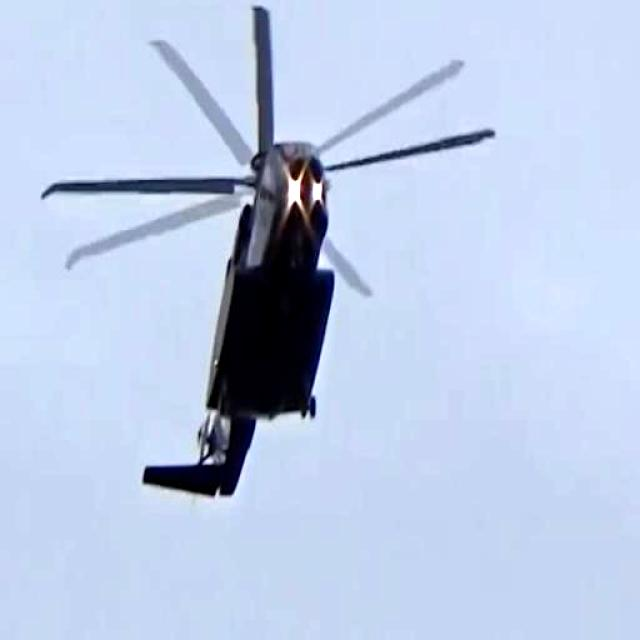drone: (55, 0, 484, 542)
